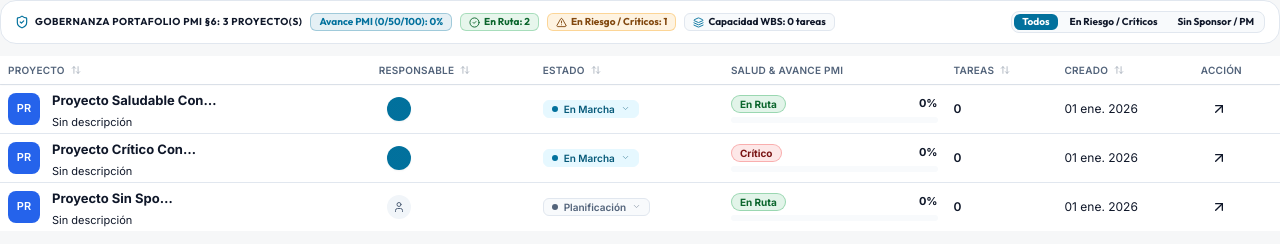
it: ProjectsTableView › filters portfolio rows by at-risk/critical health and missing sponsor/PM
Check: the text "Proyecto Saludable Con PM" is shown, box [52,92,227,108]
Check: the text "Proyecto Crítico Con PM" is shown, box [52,140,207,156]
Click the button with test id "projects-table-filter-at-risk". click: [1113, 22]
box: [1062,14,1165,30]
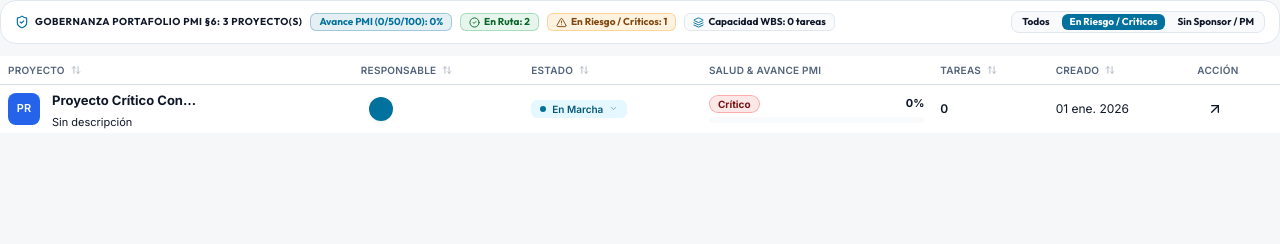
Check: the text "Proyecto Crítico Con PM" is shown, box [52,92,207,108]
Check: the button "Proyecto Saludable Con PM" is gone
Check: the button "Proyecto Sin Sponsor" is gone
Click the button with test id "projects-table-filter-no-owner". click: [1216, 22]
box: [1170,14,1262,30]
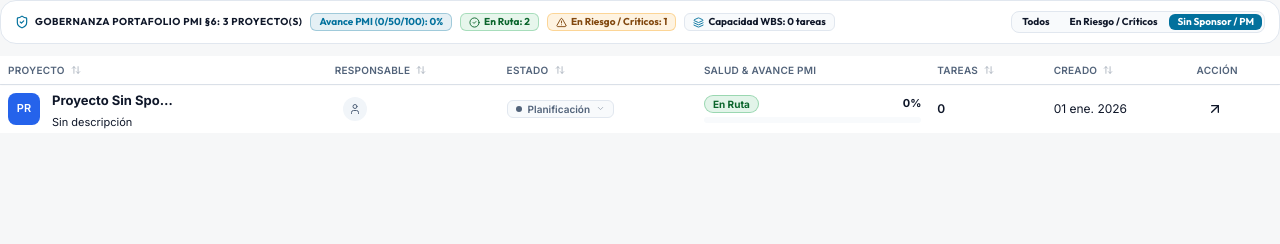
Check: the button "Proyecto Saludable Con PM" is not shown
Check: the button "Proyecto Crítico Con PM" is gone
Check: the text "Proyecto Sin Sponsor" is shown, box [52,92,188,108]
Click the button with test id "projects-table-filter-all". click: [1036, 22]
box: [1014,14,1058,30]
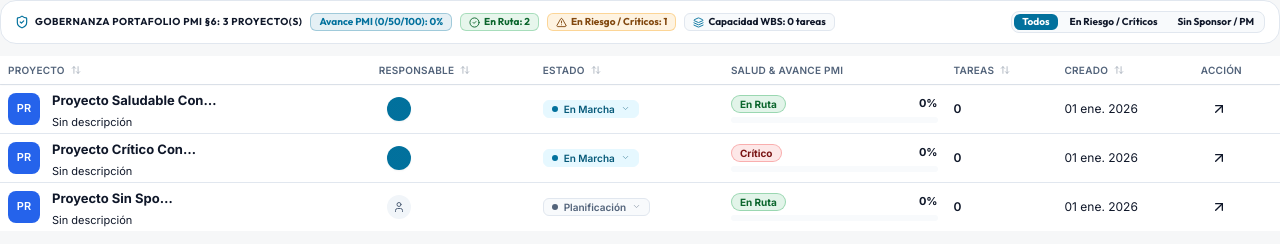
Check: the text "Proyecto Sin Sponsor" is shown, box [52,190,188,206]
Check: the text "Proyecto Saludable Con PM" is shown, box [52,92,227,108]
Check: the text "Proyecto Crítico Con PM" is shown, box [52,140,207,156]
